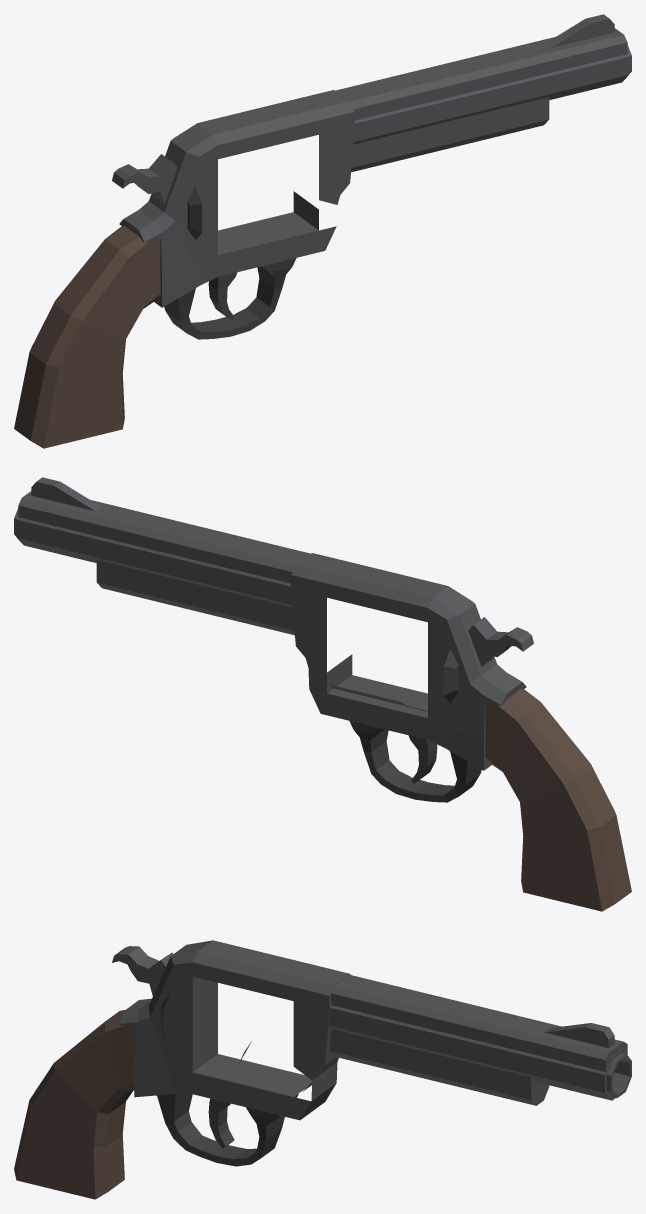
The model's file is body.glb.
3 views of the same model, one above another, from view 1: azimuth 30°, elevation 25°; view 2: azimuth 150°, elevation 25°; view 3: azimuth 330°, elevation 25° (orthographic).
Parts seen in each view (by area): view 1: Revolver_1; view 2: Revolver_1; view 3: Revolver_1.
Part boxes in pixels (bbox=[...]): Revolver_1: bbox=[14, 14, 631, 448]; Revolver_1: bbox=[14, 477, 631, 911]; Revolver_1: bbox=[14, 940, 631, 1199].
Bounding box in the file's own units: 1.98 × 0.8898 × 0.2293.
